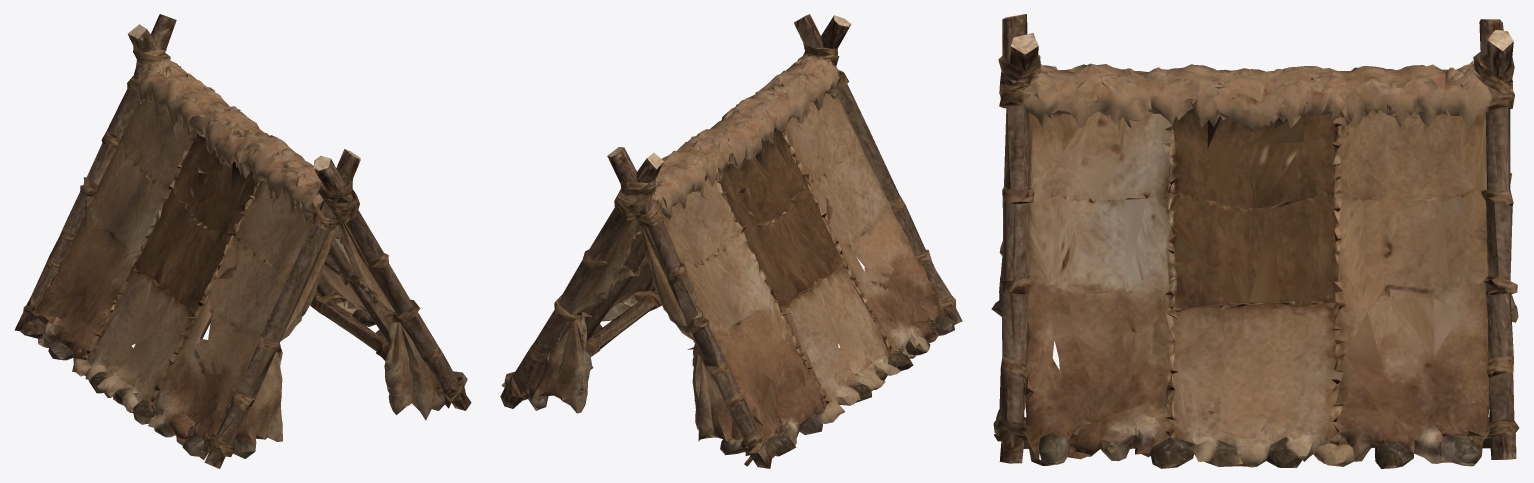
3 renders of one model, left to right at view 1: azimuth 30°, elevation 25°; view 2: azimuth 150°, elevation 25°; view 3: azimuth 270°, elevation 25°, orthographic. The views are drawn at different scales.
Parts seen in each view (by area): view 1: HideTent; view 2: HideTent; view 3: HideTent.
Boxes of the visible parts, x1,y1,x2,y2 form: HideTent: [15, 14, 471, 468]; HideTent: [500, 14, 962, 468]; HideTent: [991, 14, 1519, 468].
Bounding box in the file's own units: 3.5 × 3.17 × 4.17.
Materials: 1 (1 with a texture image).
